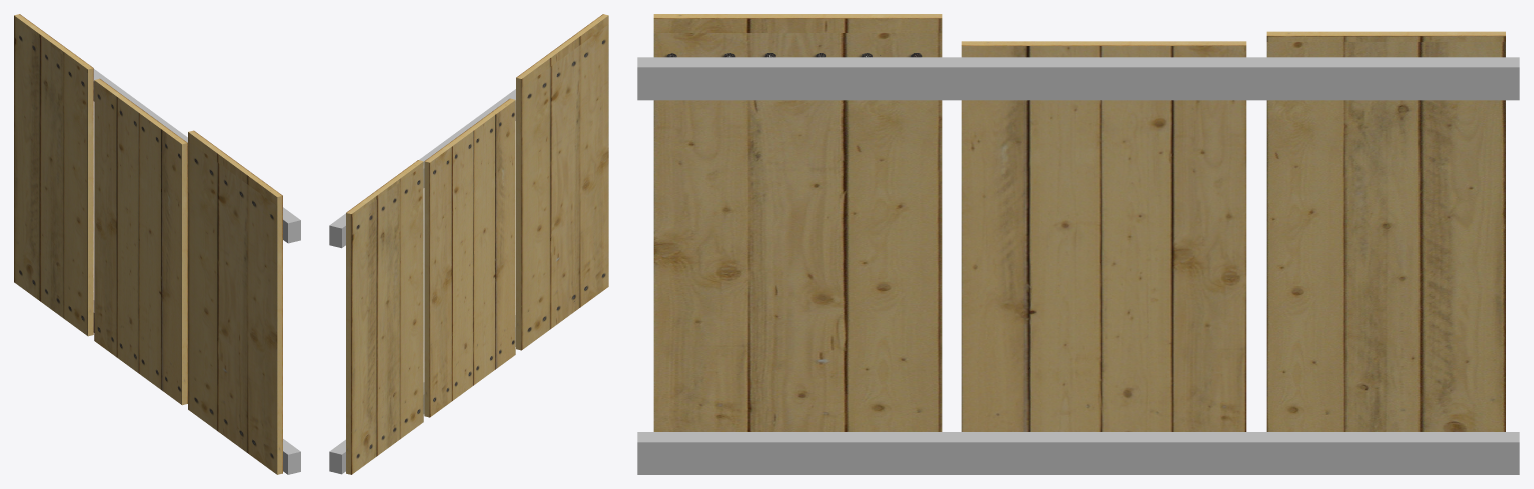
Rendered from Wood2.FBX.
3 renders of one model, left to right at view 1: azimuth 30°, elevation 25°; view 2: azimuth 150°, elevation 25°; view 3: azimuth 270°, elevation 25°, orthographic. The views are drawn at different scales.
Parts seen in each view (by area): view 1: propwood_2, propwood_3; view 2: propwood_2, propwood_3; view 3: propwood_2, propwood_3.
Boxes of the visible parts, left/top/right/bottom form: propwood_2: left=14, top=14, right=282, bottom=474; propwood_3: left=93, top=69, right=300, bottom=474; propwood_2: left=346, top=14, right=608, bottom=474; propwood_3: left=329, top=89, right=515, bottom=474; propwood_2: left=653, top=14, right=1505, bottom=431; propwood_3: left=637, top=57, right=1519, bottom=474.
Bounding box in the file's own units: 3.04 × 43.31 × 76.98.
